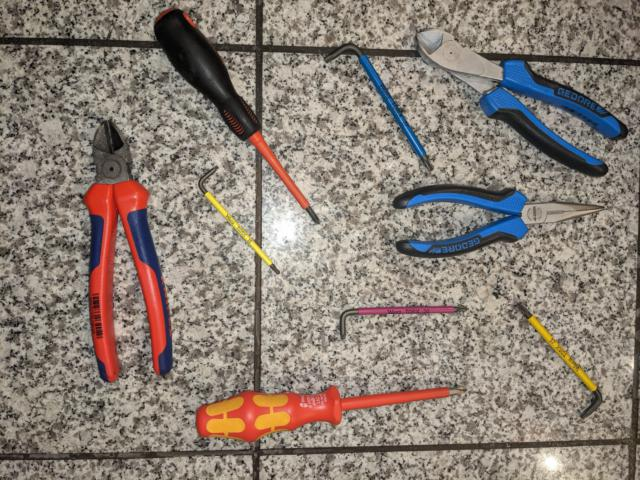Inbusschlüssel: (324, 41, 437, 174), (512, 298, 606, 424), (197, 163, 285, 279), (337, 299, 473, 344)
Schraubendreher: (150, 5, 326, 228), (193, 381, 469, 447)
Seitenschneider: (412, 25, 633, 183), (80, 116, 175, 387)
Zange: (388, 181, 607, 263)
